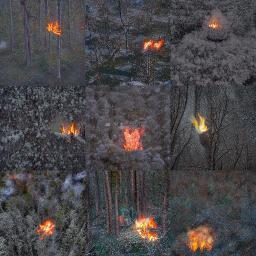Small fire: (183, 223, 228, 255), (126, 214, 158, 243), (123, 123, 145, 157), (33, 219, 64, 241), (187, 112, 211, 135), (56, 120, 82, 138), (44, 21, 66, 39), (139, 35, 161, 51), (206, 15, 218, 31)
